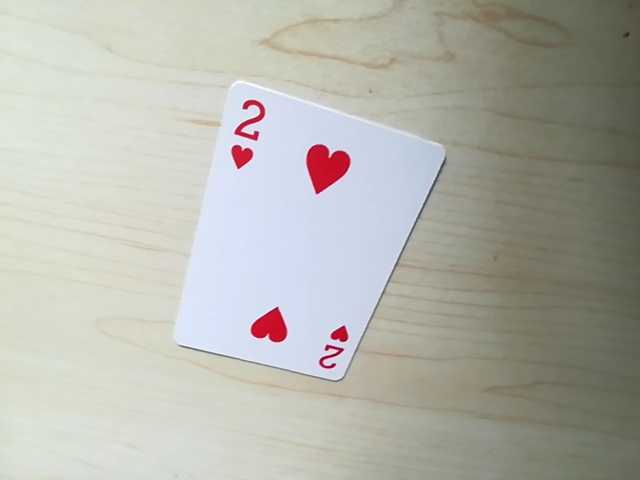hx 2: (225, 89, 269, 169), (313, 324, 352, 380)
